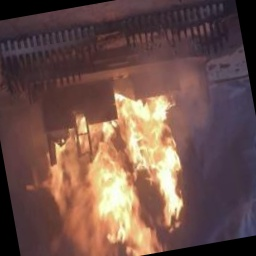fire: (20, 82, 208, 256)
